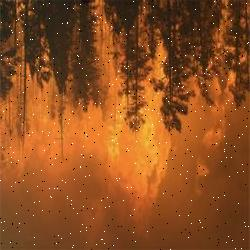fire: (0, 50, 238, 228)
